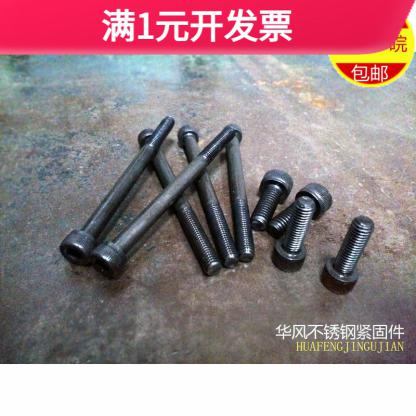FOD: (90, 122, 237, 276), (58, 114, 176, 268), (136, 129, 221, 276), (318, 214, 376, 298), (267, 180, 334, 241), (268, 195, 317, 273), (250, 168, 294, 230)
